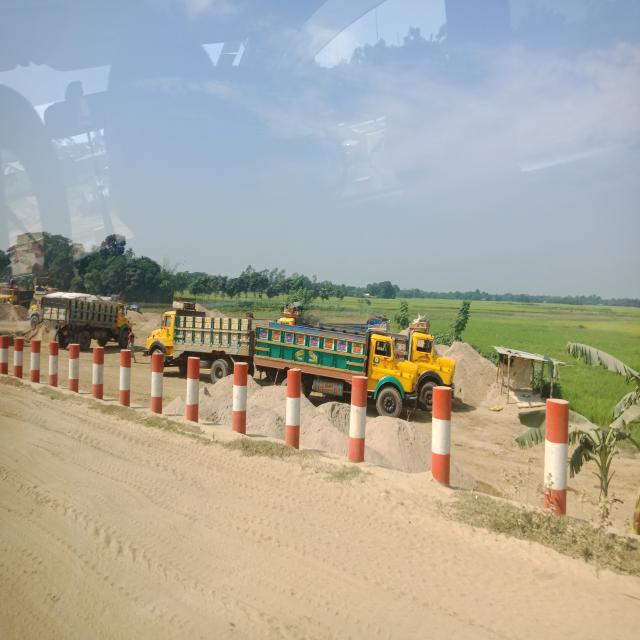truck: (253, 292, 420, 419), (146, 294, 256, 384), (41, 290, 140, 353), (416, 316, 466, 404)
